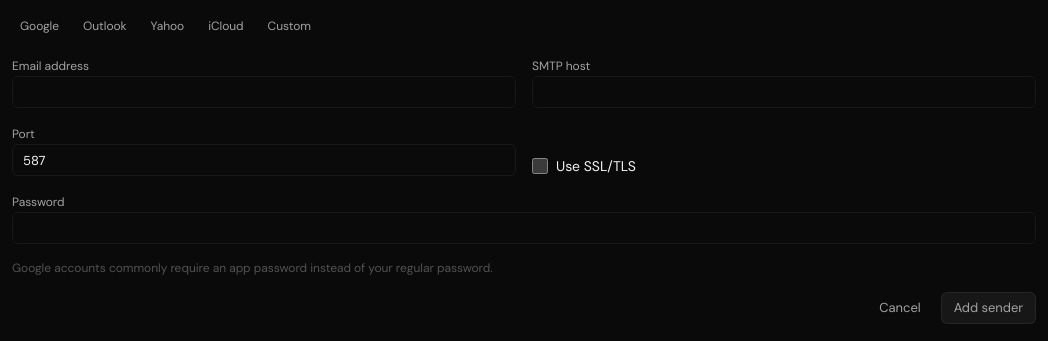
it: SenderForm › fills fields from Google preset
The width and height of the screenshot is (1048, 341).
Click the button "Google" at (40,26), box 12,12 -> 67,40
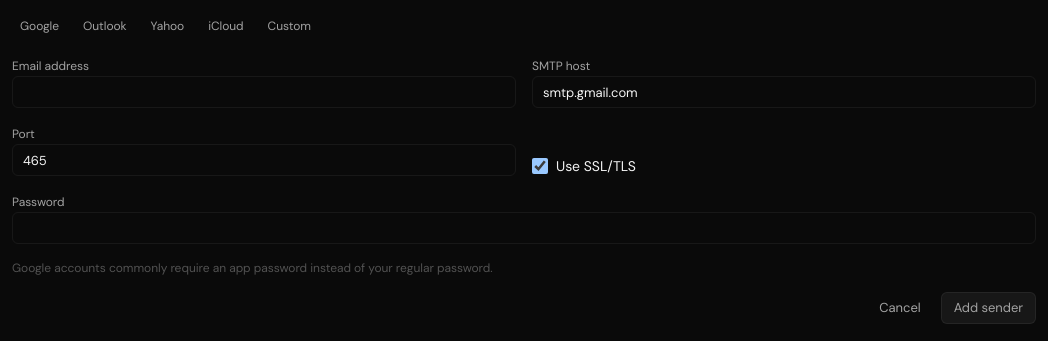
Expected: the field labelled "SMTP host" holds "smtp.gmail.com", 532,76 -> 1036,108
